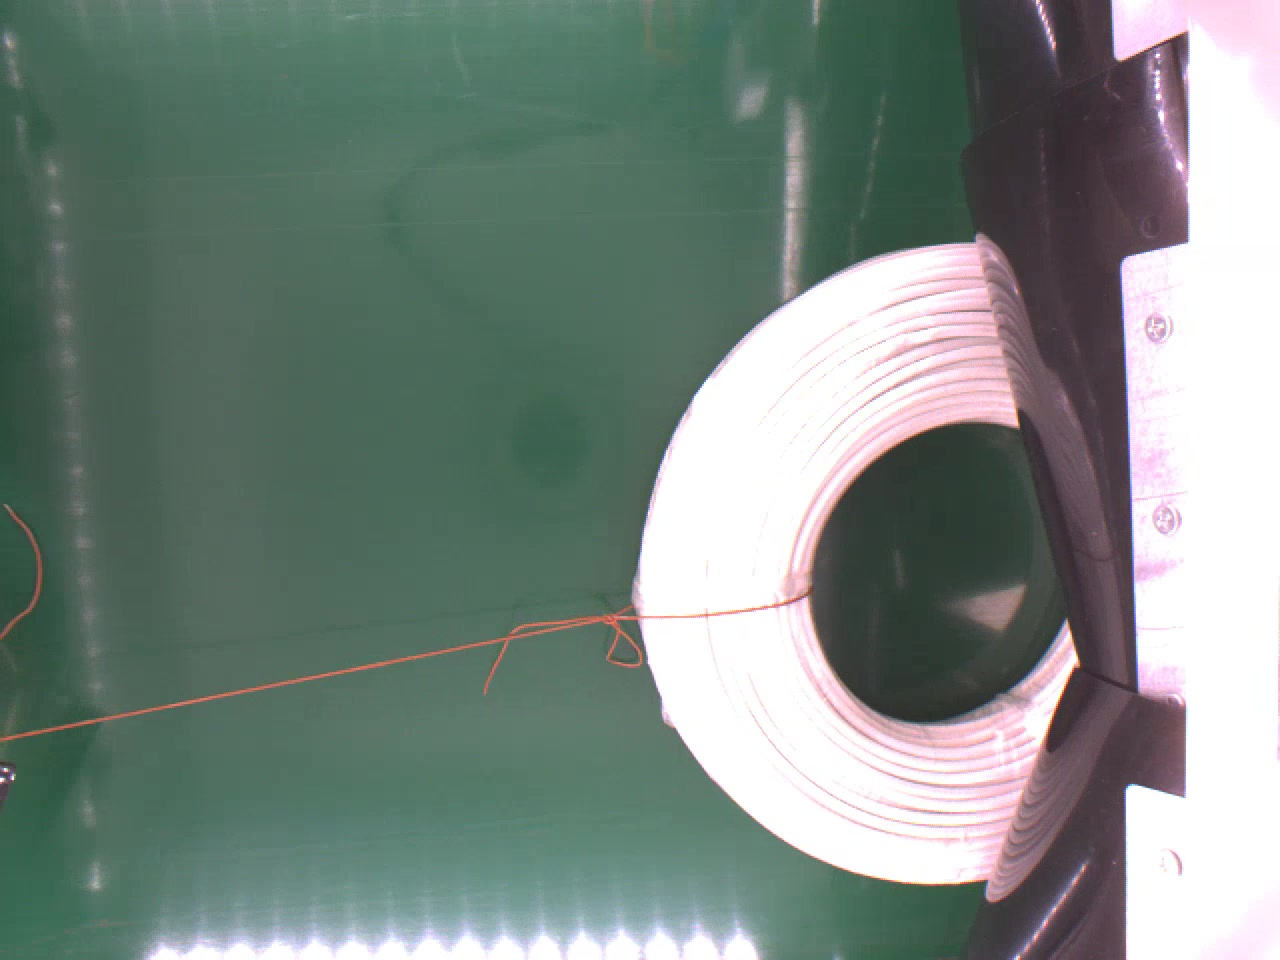white: (633, 231, 1079, 879)
